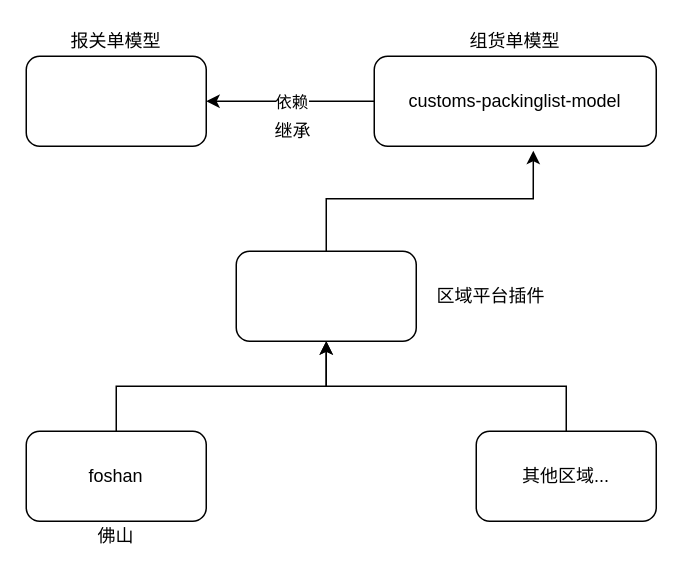
Image size: 683x576. Some labels were removed from this diagram. Here are the shapes that lost their labels. From the top down, the box of each, then its label:
(25, 55, 206, 146): declaration-model
(235, 250, 416, 341): region-platform
